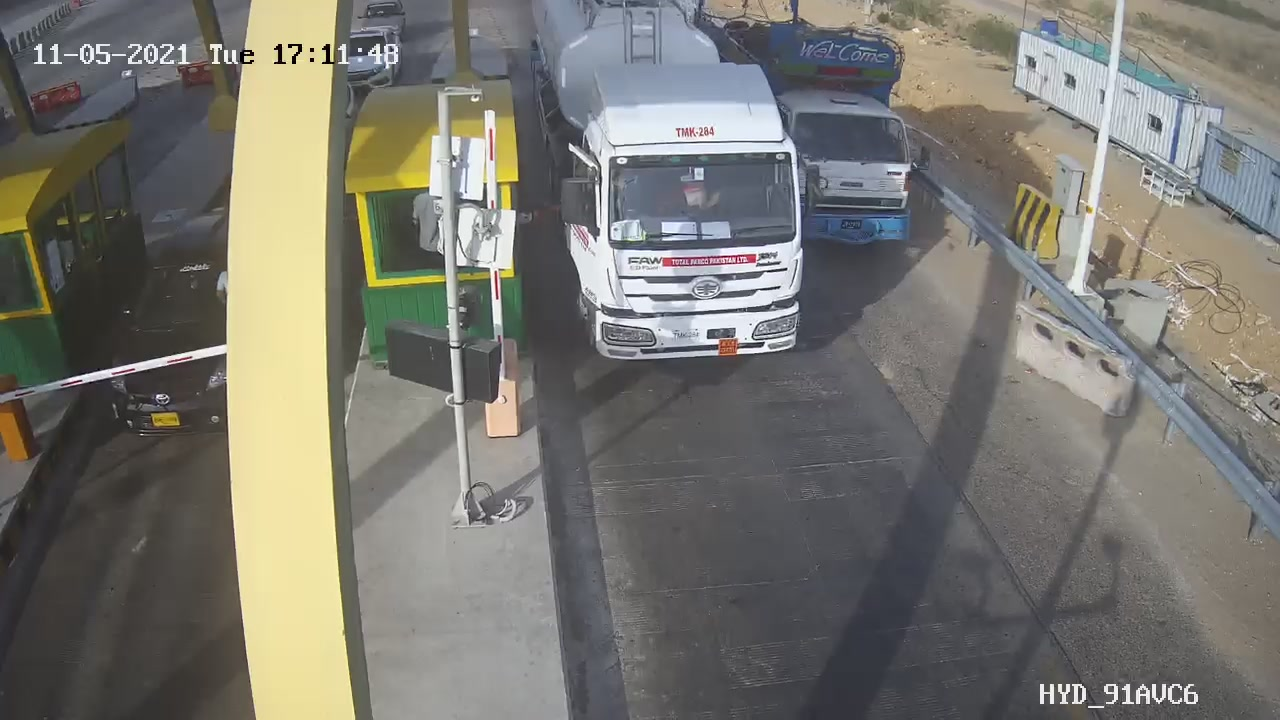F6: (511, 1, 851, 394)
